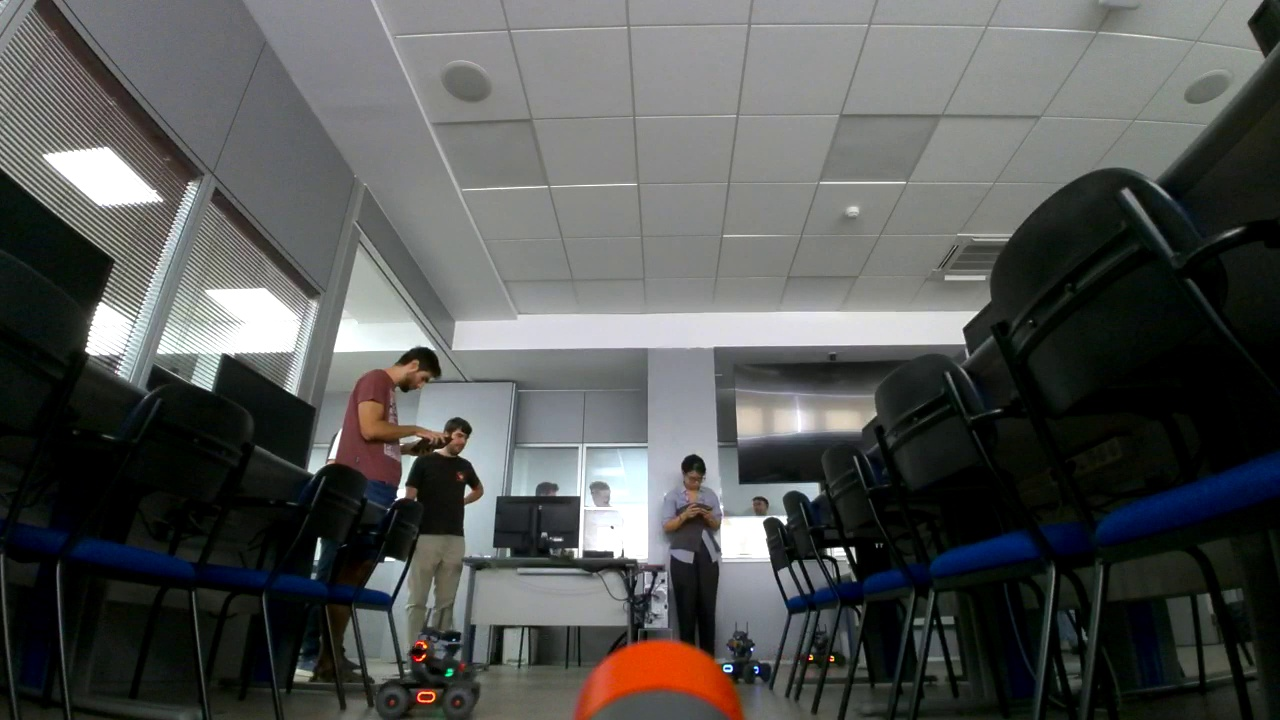robot: (380, 607, 490, 720), (716, 620, 773, 684)
